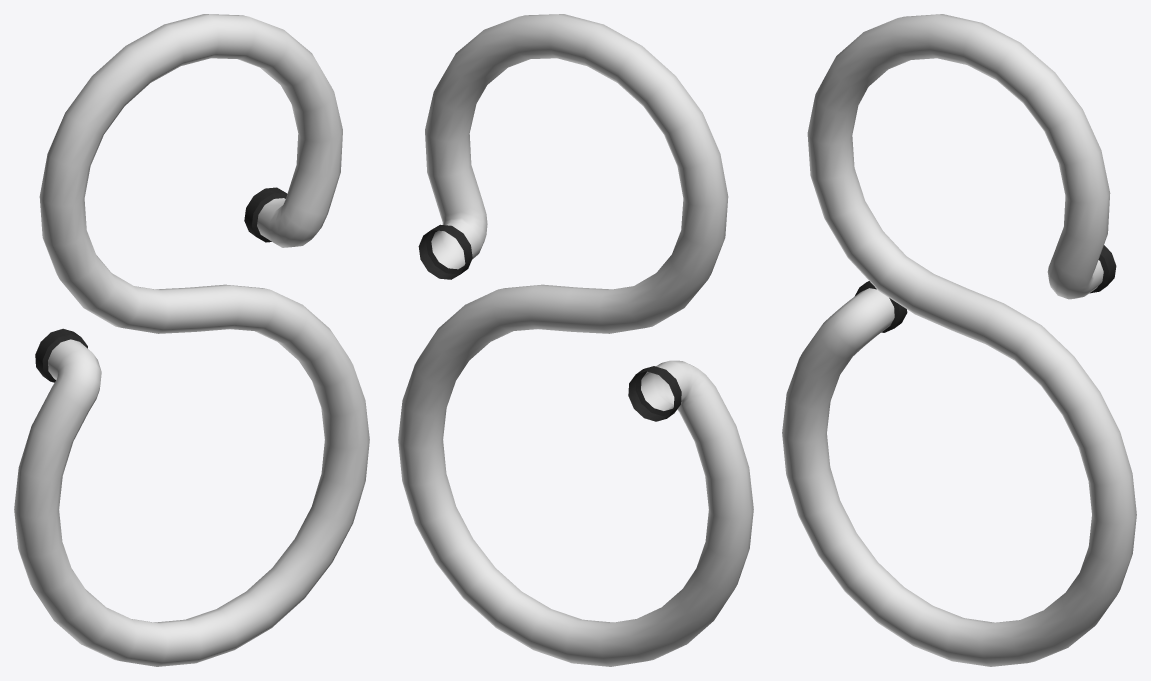
The model's file is LettersNeon01_8.FBX.
The picture shows the model from 3 angles, left to right: view 1: azimuth 30°, elevation 25°; view 2: azimuth 150°, elevation 25°; view 3: azimuth 330°, elevation 25°; orthographic projection.
Parts seen in each view (by area): view 1: LettersNeon01_8; view 2: LettersNeon01_8; view 3: LettersNeon01_8.
Boxes of the visible parts, <box> form: LettersNeon01_8: <box>14,14,369,666</box>; LettersNeon01_8: <box>398,14,753,666</box>; LettersNeon01_8: <box>782,14,1136,666</box>.
Size of what is drawn, in the model's own units: 0.27 by 0.4736 by 0.054.
